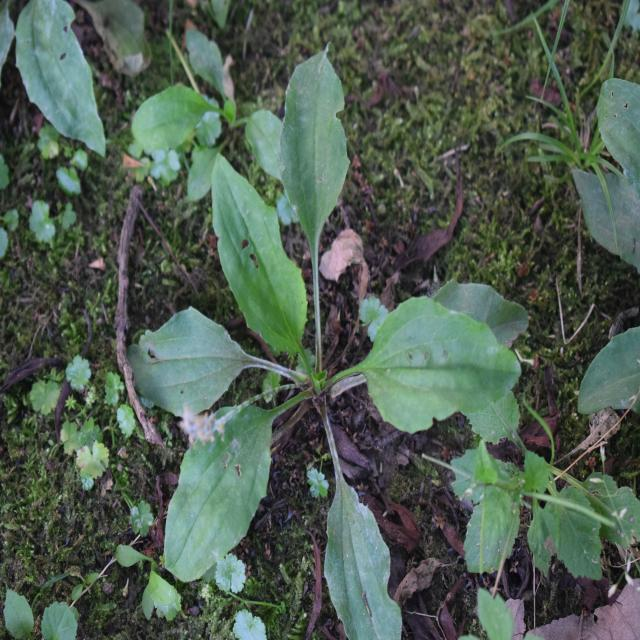plantain: (163, 89, 490, 620)
